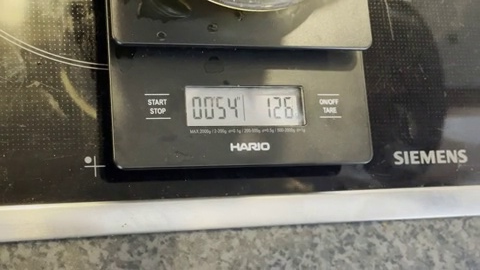display: (185, 85, 302, 125)
